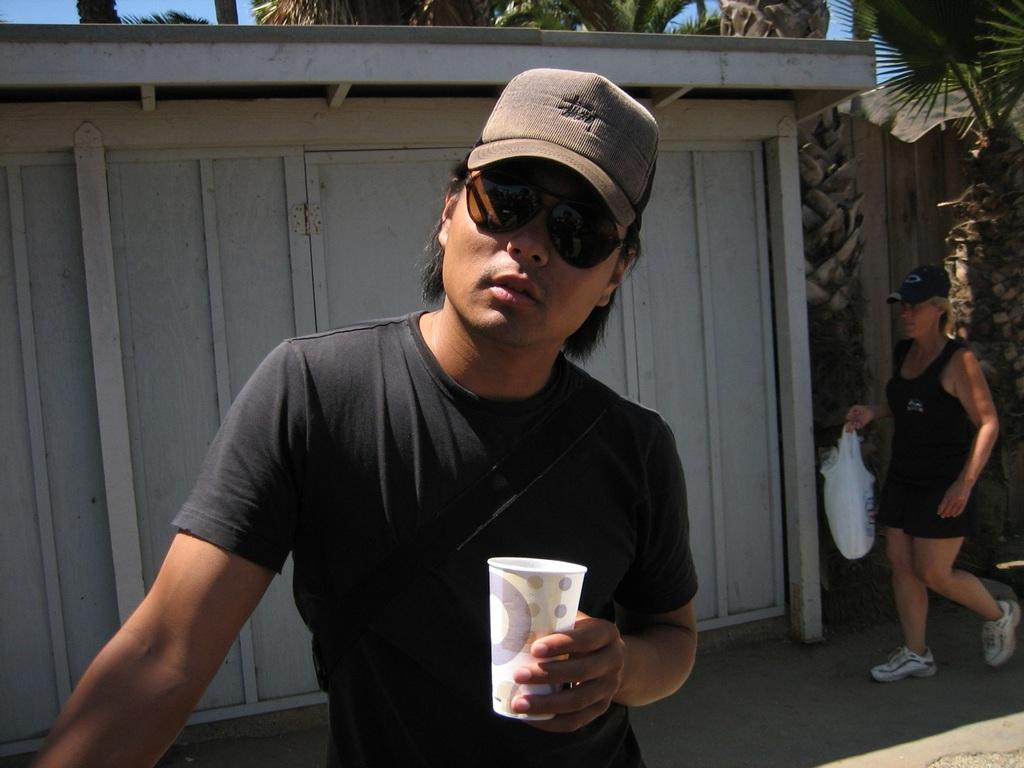Hat: (465, 66, 664, 226), (880, 262, 950, 301)
